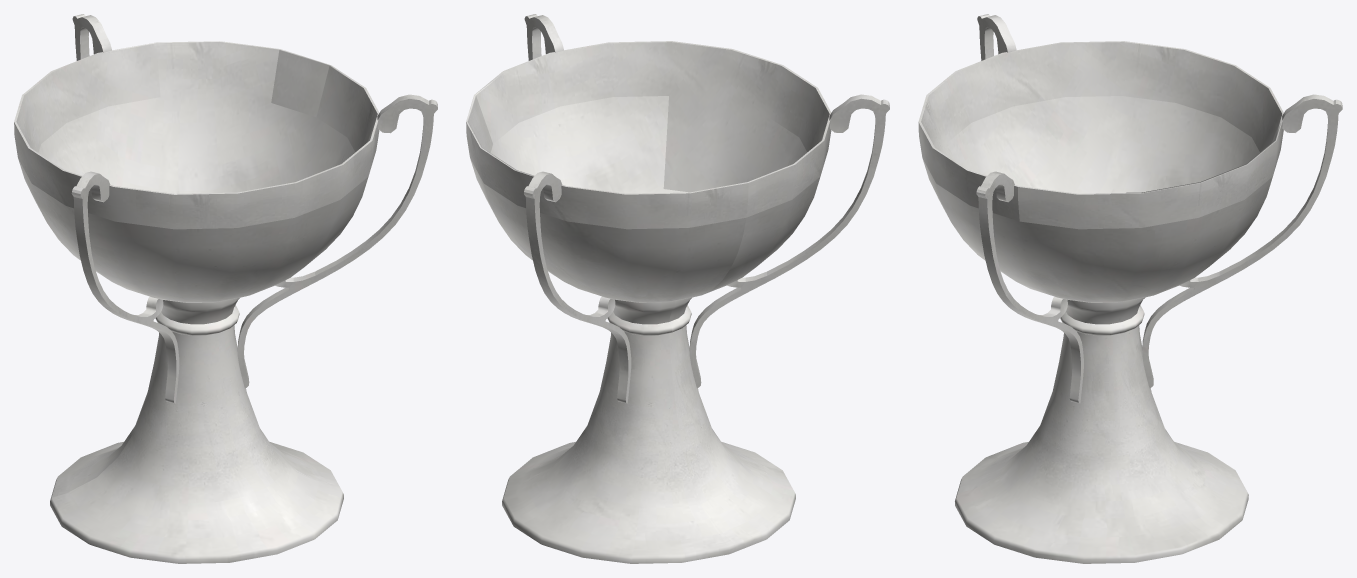
Rendered from trophy_846.glb.
The picture shows the model from 3 angles, left to right: view 1: azimuth 30°, elevation 25°; view 2: azimuth 150°, elevation 25°; view 3: azimuth 270°, elevation 25°; orthographic projection.
Parts seen in each view (by area): view 1: trophy; view 2: trophy; view 3: trophy.
Part boxes in pixels (x1,y1,x2,y2): trophy: (14,14,437,563); trophy: (466,14,889,563); trophy: (918,14,1342,563).
Bounding box in the file's own units: 0.4075 × 0.4323 × 0.4092.
1 material, 1 textured.
